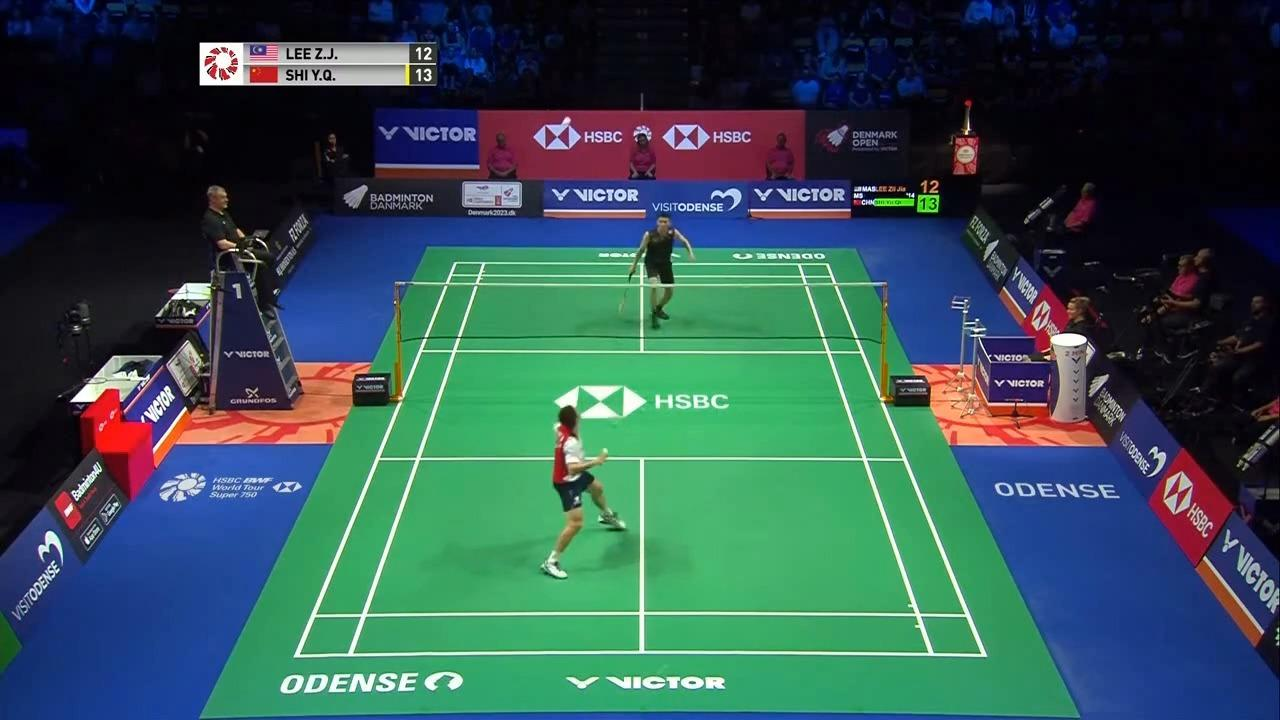shuttle: (559, 115, 574, 126)
